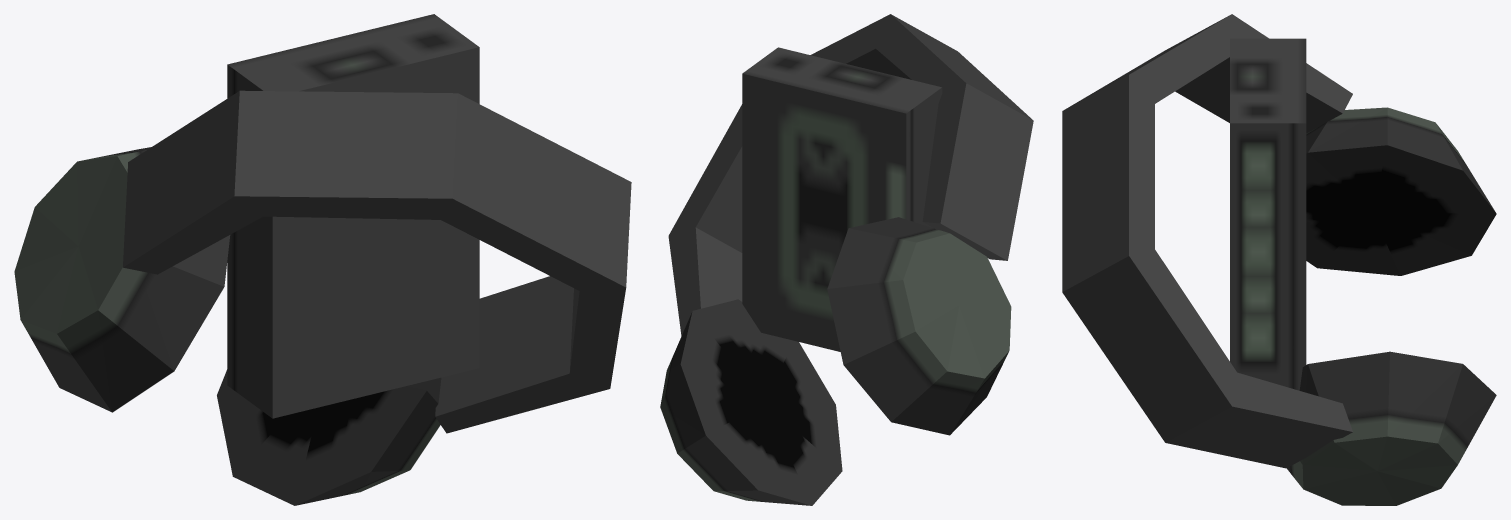
The model's file is headphones-casette.glb.
The picture shows the model from 3 angles, left to right: view 1: azimuth 30°, elevation 25°; view 2: azimuth 150°, elevation 25°; view 3: azimuth 270°, elevation 25°; orthographic projection. The views are drawn at different scales.
Parts seen in each view (by area): view 1: M001, M000; view 2: M001, M000; view 3: M001, M000.
Part boxes in pixels (x1,y1,x2,y2): M001: [14, 90, 631, 505]; M000: [227, 14, 479, 418]; M001: [660, 14, 1033, 505]; M000: [742, 47, 942, 351]; M001: [1062, 14, 1496, 505]; M000: [1230, 38, 1306, 390].
Size of the model in its own units: 139 by 135 by 126.
Materials: 1 (1 with a texture image).
